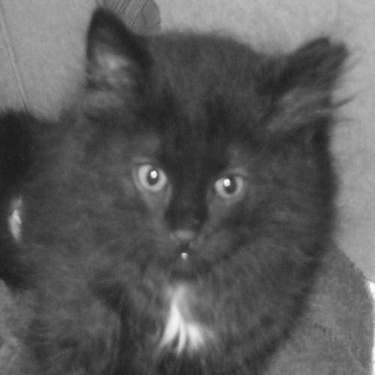cat: (5, 5, 348, 371)
